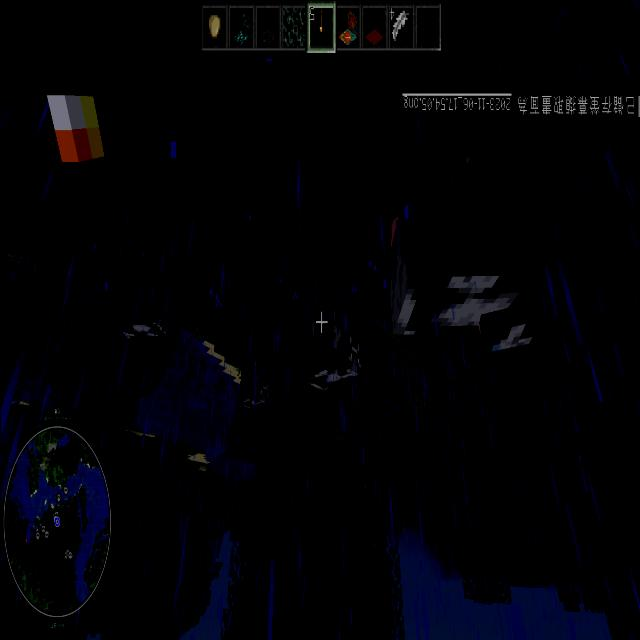cow: (370, 117, 552, 360), (292, 291, 366, 403), (233, 334, 277, 413), (116, 284, 170, 348)
